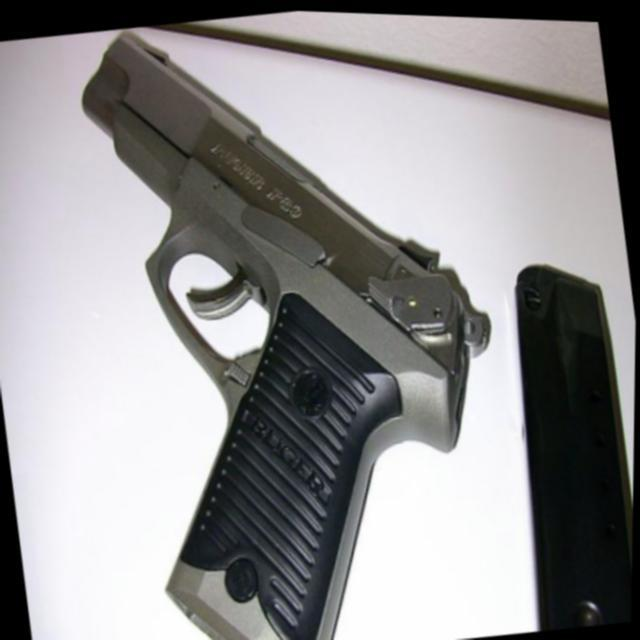weapon: (64, 2, 537, 640)
